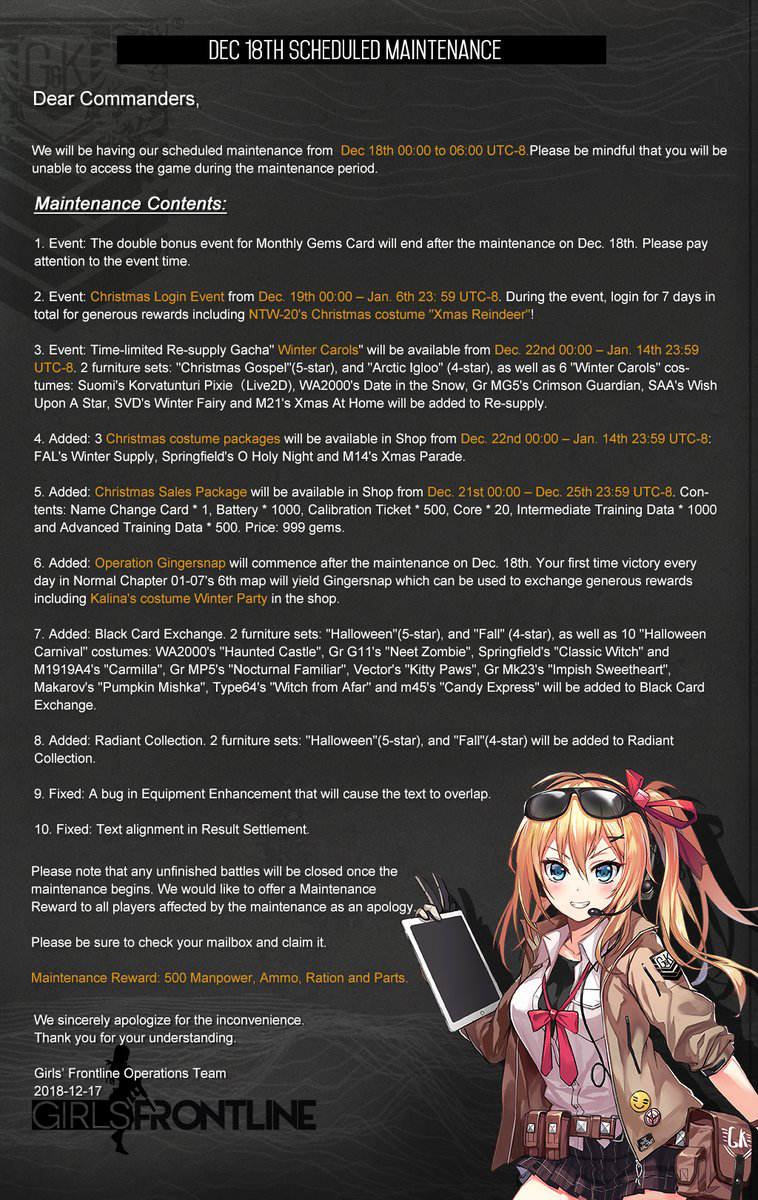latin: (31, 230, 721, 775), (30, 137, 729, 184), (29, 785, 494, 845), (28, 857, 416, 924), (31, 1009, 305, 1102), (206, 32, 505, 65), (28, 967, 410, 991), (29, 929, 328, 954), (31, 84, 200, 115), (32, 192, 231, 216)
